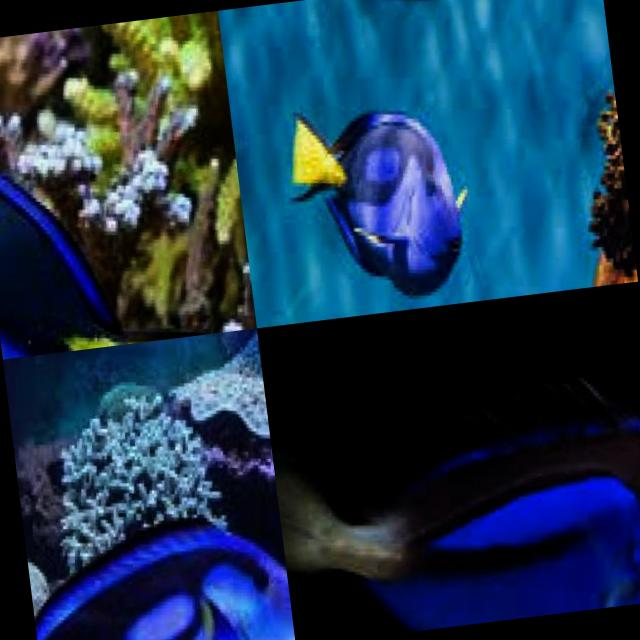BlueTang: (258, 296, 640, 640), (0, 33, 256, 359), (243, 48, 519, 326), (16, 443, 295, 640)
